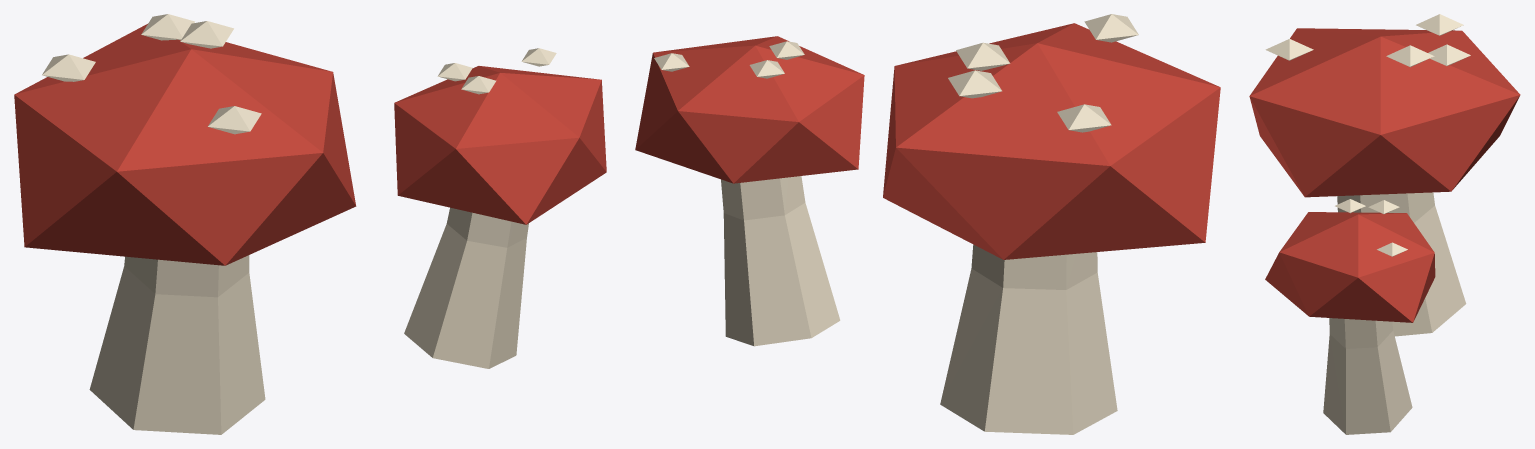
The model's file is HS_LP_Mushroom_Cluster_Red_01.fbx.
3 renders of one model, left to right at view 1: azimuth 30°, elevation 25°; view 2: azimuth 150°, elevation 25°; view 3: azimuth 270°, elevation 25°, orthographic. The views are drawn at different scales.
Visible parts, largest first — view 1: HS_LP_Mushroom_Cluster_Red_01; view 2: HS_LP_Mushroom_Cluster_Red_01; view 3: HS_LP_Mushroom_Cluster_Red_01.
Boxes of the visible parts, box(x1,y1,x2,y2) form: HS_LP_Mushroom_Cluster_Red_01: box(14, 14, 606, 434); HS_LP_Mushroom_Cluster_Red_01: box(635, 14, 1220, 434); HS_LP_Mushroom_Cluster_Red_01: box(1249, 14, 1520, 434).
Bounding box in the file's own units: 36.24 × 22.76 × 19.42.
